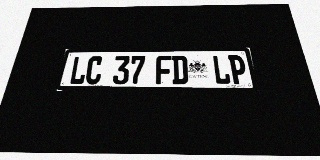3: (112, 56, 130, 84)
7: (128, 56, 145, 84)
C: (84, 56, 103, 84)
D: (172, 55, 188, 84)
F: (156, 56, 172, 84)
L: (68, 56, 88, 85), (212, 55, 231, 84)
P: (228, 55, 248, 84)
